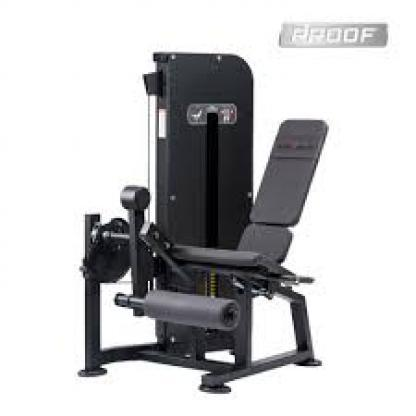leg extension: (62, 42, 340, 398)
